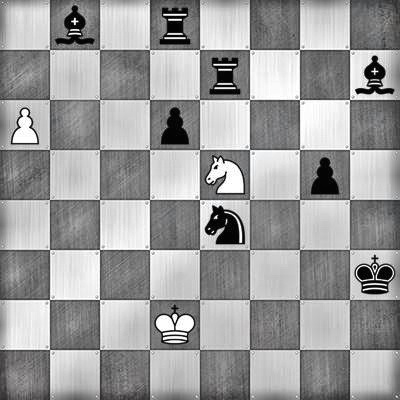black-bishop: (50, 0, 100, 50), (350, 50, 400, 100)
black-king: (350, 250, 400, 300)
black-knight: (200, 200, 250, 250)
black-pawn: (150, 100, 200, 150), (300, 150, 350, 200)
black-rook: (150, 0, 200, 50), (200, 50, 250, 100)
white-king: (150, 300, 200, 350)
white-knight: (200, 150, 250, 200)
white-pawn: (0, 100, 50, 150)
